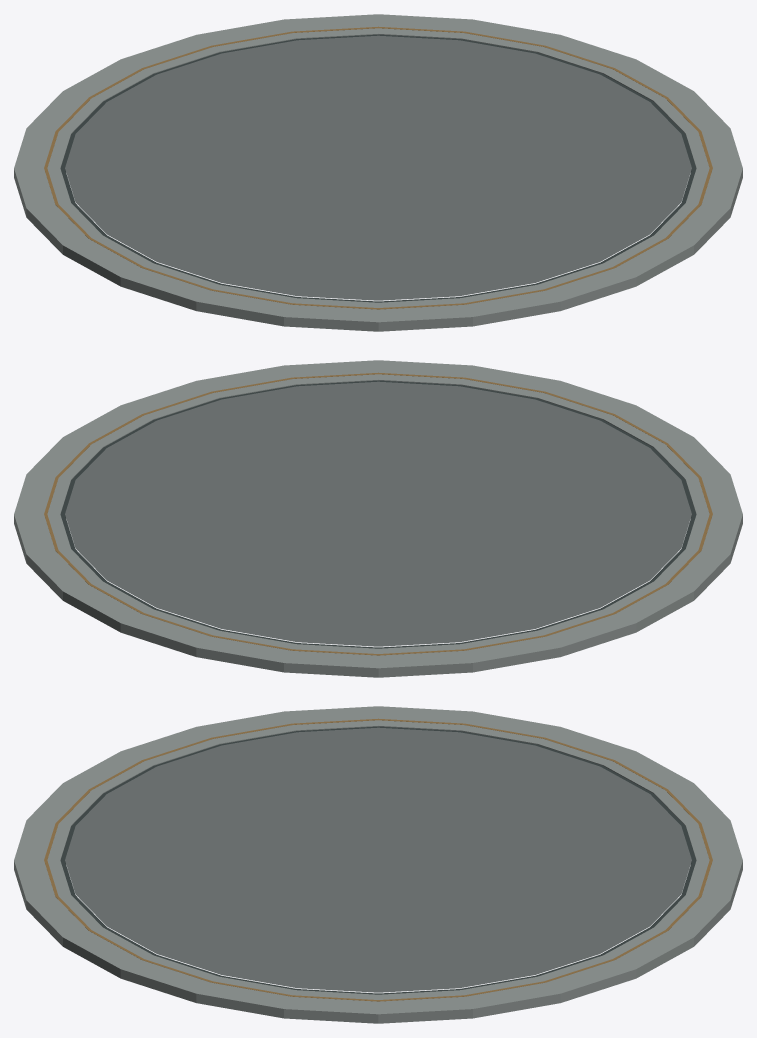
File: w9b-corner-vista-pad.glb
3 renders of one model, top to bottom at view 1: azimuth 30°, elevation 25°; view 2: azimuth 150°, elevation 25°; view 3: azimuth 270°, elevation 25°, orthographic.
Parts seen in each view (by area): view 1: Bench paving surface, Stone collar, Inlaid ribbon, Inset seal; view 2: Bench paving surface, Stone collar, Inlaid ribbon, Inset seal; view 3: Bench paving surface, Stone collar, Inlaid ribbon, Inset seal.
Boxes of the visible parts, x1,y1,x2,y2 form: Bench paving surface: (65, 35, 691, 300); Stone collar: (14, 14, 742, 331); Inlaid ribbon: (44, 26, 712, 309); Inset seal: (60, 34, 696, 302); Bench paving surface: (65, 381, 691, 646); Stone collar: (14, 360, 742, 677); Inlaid ribbon: (44, 372, 712, 655); Inset seal: (60, 380, 696, 648); Bench paving surface: (65, 727, 691, 992); Stone collar: (14, 706, 742, 1023); Inlaid ribbon: (44, 718, 712, 1001); Inset seal: (60, 726, 696, 994).
Size of the model in its own units: 5.58 by 0.081 by 5.58.
